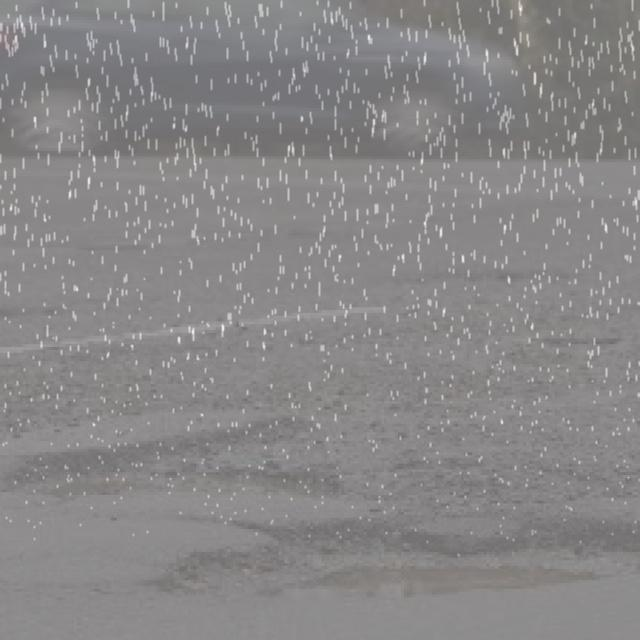Pothole: (190, 519, 640, 621), (13, 415, 364, 508)
